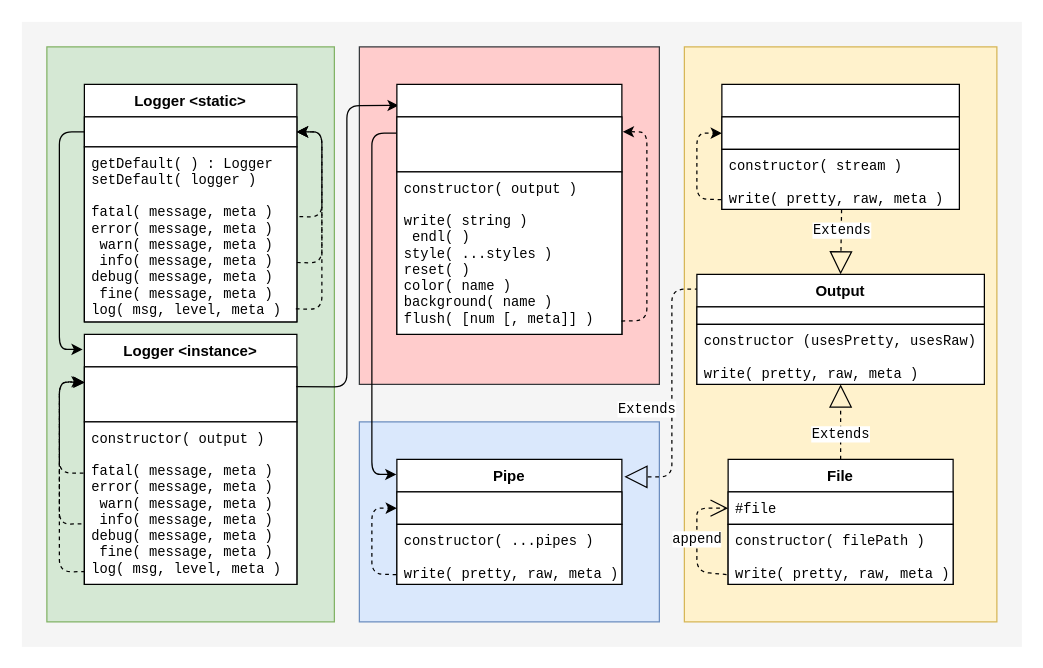
The diagram is 1043 pixels wide and 668 high, and some of its shapes have lost their labels. Each missing label, with the box of its shape:
#default : Logger: (83, 116, 297, 147)
#downstreams : Pipe[]: (396, 491, 622, 524)
#output : Pipe #buffer : PrintBuffer: (396, 116, 622, 172)
#printer : PrettyPrinter #minlevel : LogLevel: (83, 366, 297, 422)
#stream: (721, 116, 959, 149)
PrettyPrinter: (396, 83, 622, 334)
Terminal: (721, 83, 959, 209)
